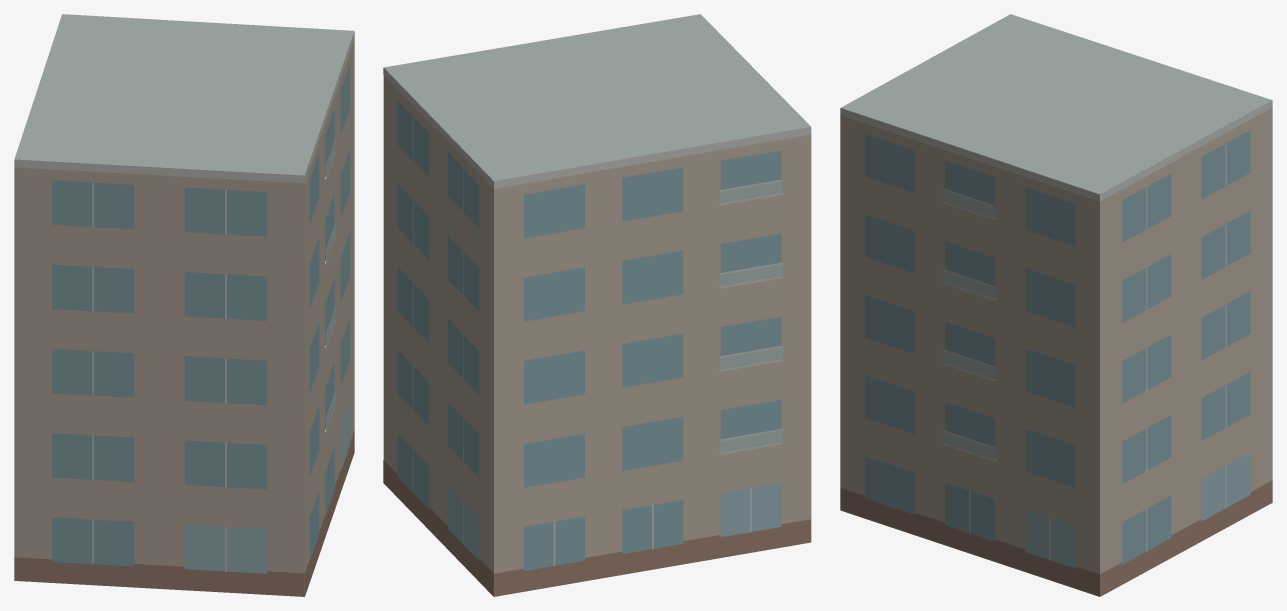
The model's file is survey-upis-32678295.glb.
3 renders of one model, left to right at view 1: azimuth 30°, elevation 25°; view 2: azimuth 150°, elevation 25°; view 3: azimuth 270°, elevation 25°, orthographic. The views are drawn at different scales.
Visible parts, largest first — view 1: survey-upis-32678295.tmp; view 2: survey-upis-32678295.tmp; view 3: survey-upis-32678295.tmp.
Part boxes in pixels (box(x1,y1,x2,y2)): survey-upis-32678295.tmp: box(14, 14, 354, 596); survey-upis-32678295.tmp: box(383, 14, 811, 596); survey-upis-32678295.tmp: box(840, 14, 1272, 596).
Size of the model in its own units: 12.7 by 13.2 by 12.85.
